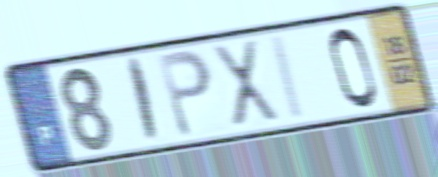0: (327, 24, 378, 112)
8: (57, 64, 114, 154)
I: (270, 32, 308, 124), (126, 55, 161, 147)
P: (154, 46, 215, 142)
X: (209, 37, 284, 130)
